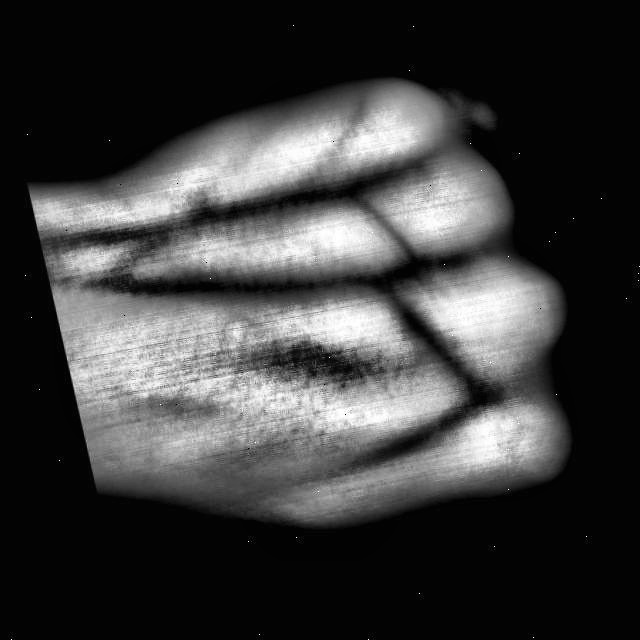Vein: (125, 175, 337, 249), (142, 264, 365, 301)
